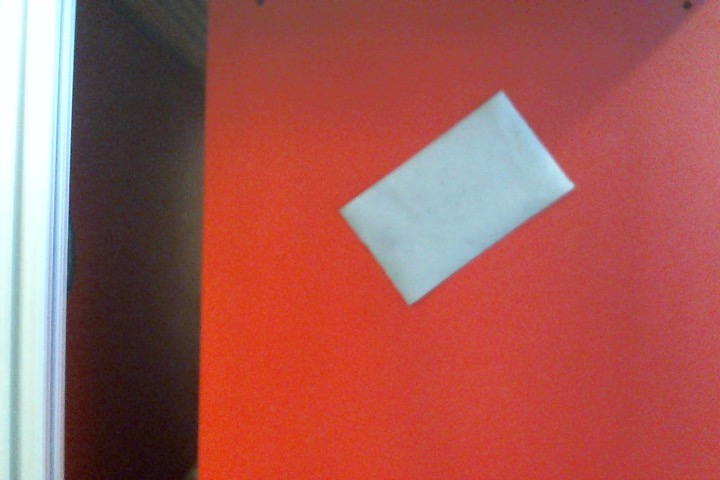Tape: (339, 91, 576, 306)
